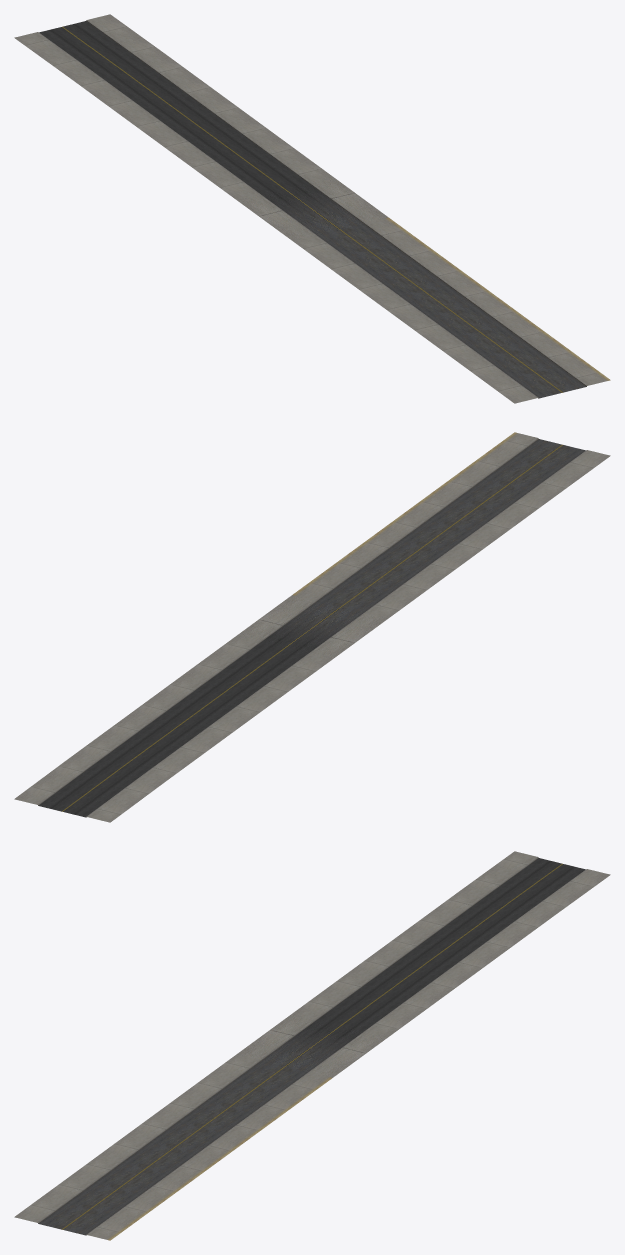
File: vegassedge28.obj
The picture shows the model from 3 angles, top to bottom: view 1: azimuth 30°, elevation 25°; view 2: azimuth 150°, elevation 25°; view 3: azimuth 330°, elevation 25°; orthographic projection.
Parts seen in each view (by area): view 1: vegasSedge28; view 2: vegasSedge28; view 3: vegasSedge28.
Boxes of the visible parts, x1,y1,x2,y2 form: vegasSedge28: [14, 14, 610, 403]; vegasSedge28: [14, 432, 610, 822]; vegasSedge28: [14, 851, 610, 1240].
Bounding box in the file's own units: 20.02 × 0.25 × 180.
7 materials, 7 textured.
